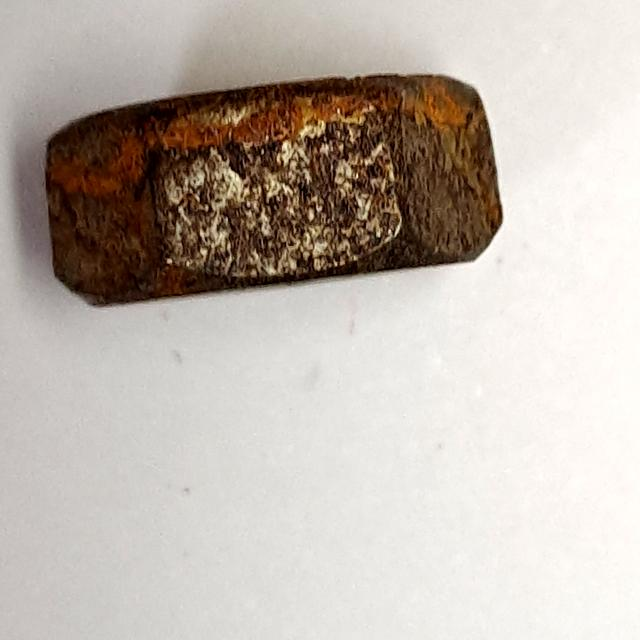Side_Rust: (36, 51, 513, 318)
